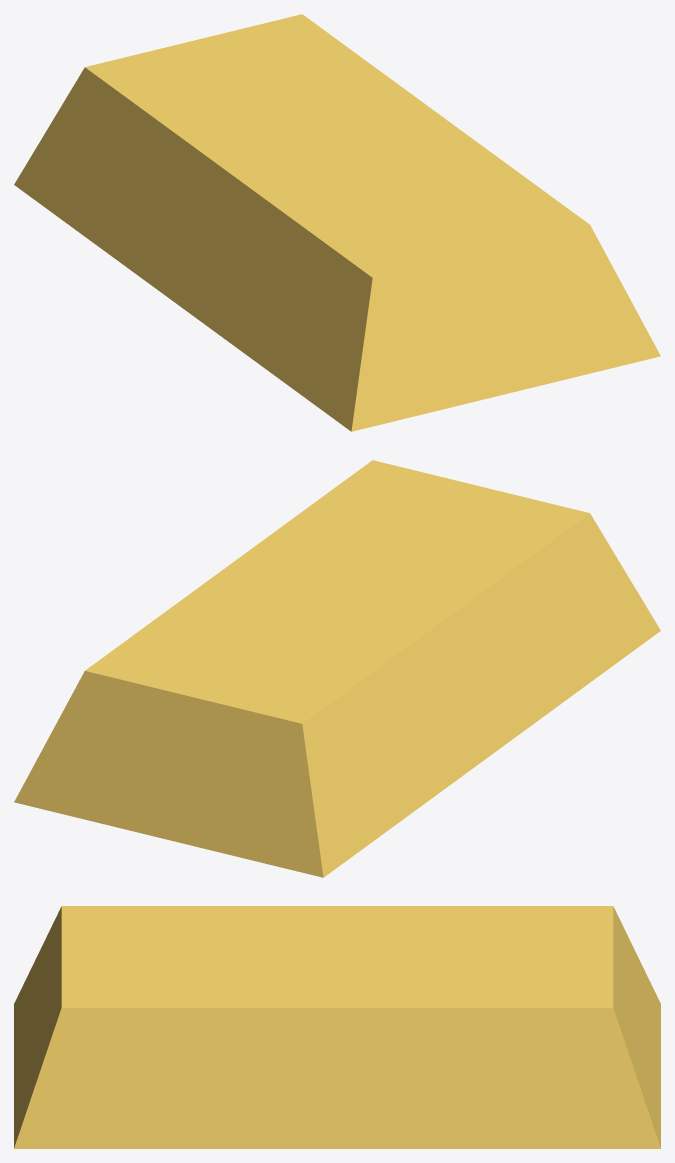
Rendered from SM_FW01_TreasureBar_01.fbx.
3 renders of one model, top to bottom at view 1: azimuth 30°, elevation 25°; view 2: azimuth 150°, elevation 25°; view 3: azimuth 270°, elevation 25°, orthographic. The views are drawn at different scales.
Parts seen in each view (by area): view 1: SM_FW01_TreasureBar_01_LOD0; view 2: SM_FW01_TreasureBar_01_LOD0; view 3: SM_FW01_TreasureBar_01_LOD0.
Part boxes in pixels (<box>): SM_FW01_TreasureBar_01_LOD0: <box>14,14,660,431</box>; SM_FW01_TreasureBar_01_LOD0: <box>14,460,660,877</box>; SM_FW01_TreasureBar_01_LOD0: <box>14,906,660,1148</box>.
Bounding box in the file's own units: 0.1814 × 0.0698 × 0.3426.
